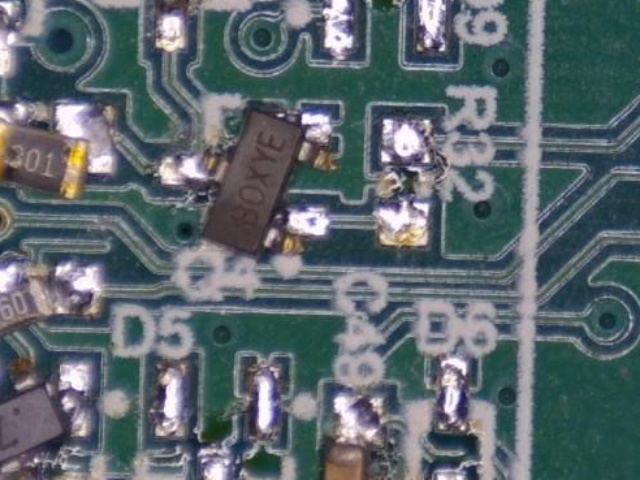pcb_defect: (162, 107, 333, 259), (318, 392, 386, 480), (0, 0, 16, 75)
